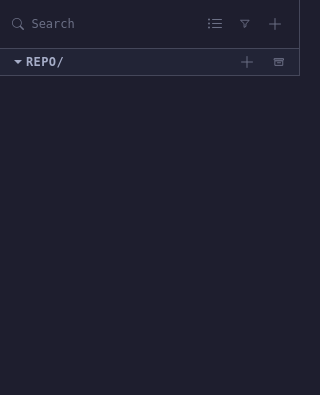
Test case: SessionSidebar › hides snoozed pins and reveals snoozed rows independently of archives in projects
Expected: the text "Snoozed pin" is not shown
Expected: the text "Snoozed row" is not shown
Step 1. Click the button named "Filter sessions" → (245, 24), box [233,12,257,36]
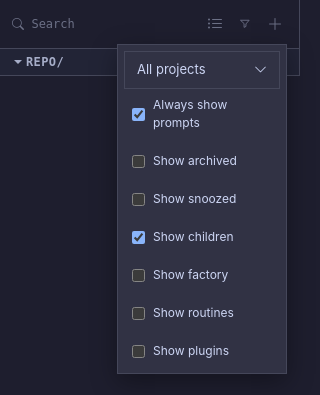
Expected: the checkbox labelled "Show snoozed" is not checked
Step 2. Click the checkbox labelled "Show snoozed" → (138, 199), box [132,192,145,206]
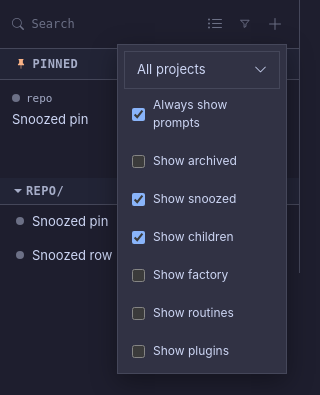
Expected: the text "Snoozed pin" below "Pinned" is shown, [12,110,88,126]
Expected: the text "Snoozed row" is shown, [32,247,112,263]
Step 3. Click the checkbox labelled "Show snoozed" → (138, 199), box [132,192,145,206]
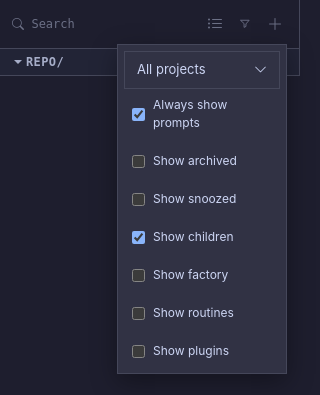
Expected: the button "Snoozed pin" is gone
